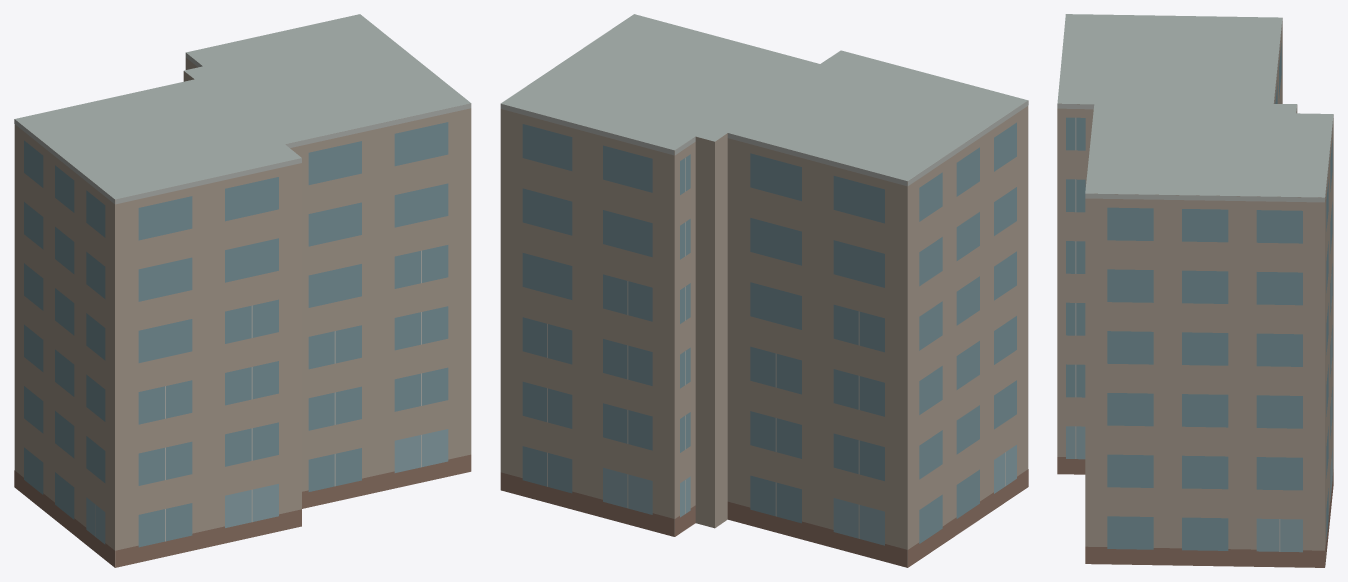
Rendered from survey-upis-33032782.glb.
The picture shows the model from 3 angles, left to right: view 1: azimuth 30°, elevation 25°; view 2: azimuth 150°, elevation 25°; view 3: azimuth 270°, elevation 25°; orthographic projection. The views are drawn at different scales.
Parts seen in each view (by area): view 1: survey-upis-33032782.tmp; view 2: survey-upis-33032782.tmp; view 3: survey-upis-33032782.tmp.
Part boxes in pixels (bbox=[...]): survey-upis-33032782.tmp: bbox=[14, 14, 471, 567]; survey-upis-33032782.tmp: bbox=[500, 14, 1028, 567]; survey-upis-33032782.tmp: bbox=[1057, 14, 1333, 567].
Size of the model in its own units: 19.45 by 18.3 by 12.38.
